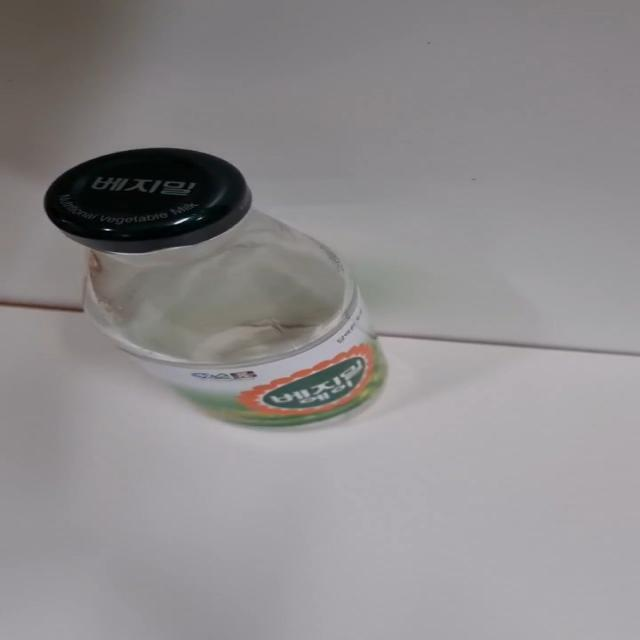Glass: (36, 147, 392, 434)
